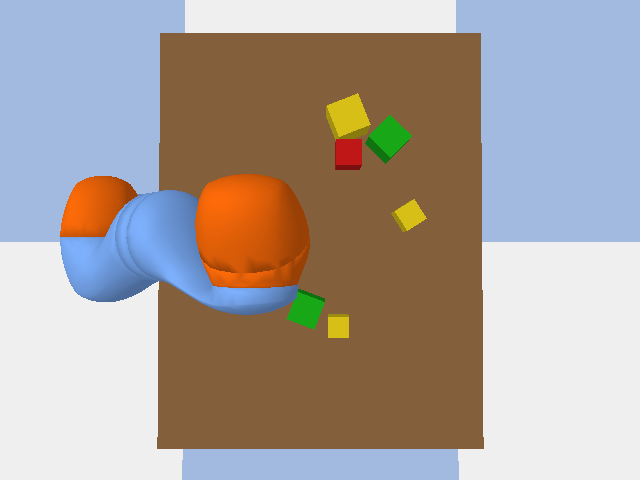green_obj: (365, 115, 411, 163), (287, 289, 324, 328)
red_obj: (335, 139, 361, 169)
yellow_obj: (326, 93, 370, 139), (391, 199, 426, 231), (328, 314, 348, 337)
